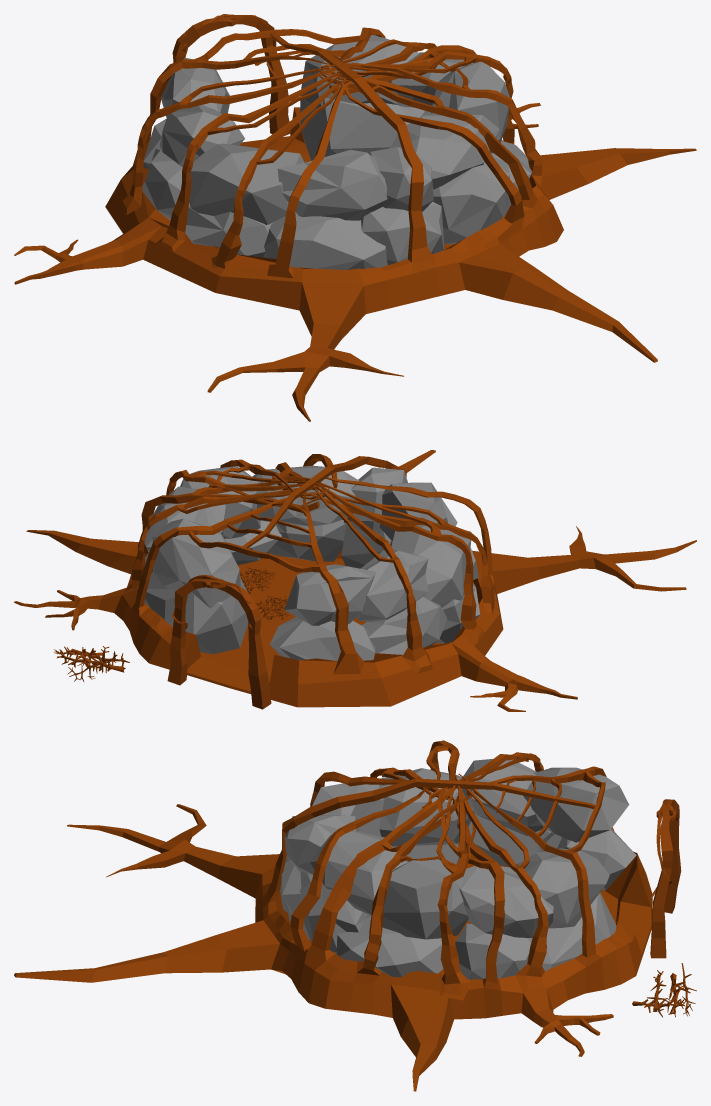
The model's file is weaversHutStage2.fbx.
3 views of the same model, one above another, from view 1: azimuth 30°, elevation 25°; view 2: azimuth 150°, elevation 25°; view 3: azimuth 270°, elevation 25° (orthographic). The views are drawn at different scales.
Parts seen in each view (by area): view 1: tree_bottom, rock.010, rock.011, rock.003, rock.001, rock.009, rock.013, tree_branch.008, tree_branch.003, rock.005, tree_branch.006, tree_branch.001 (+14 smaller); view 2: tree_bottom, rock.014, entrance.002, rock.009, rock.017, rock.010, tree_branch.001, rock.018, rock.008, tree_branch.003, tree_branch.008, rock.002 (+15 smaller); view 3: tree_bottom, rock.012, rock.017, rock.016, rock.014, rock.007, entrance.002, rock.013, tree_branch.002, tree_branch.007, tree_branch.001, rock.010 (+16 smaller).
Boxes of the visible parts, x1=… form: tree_bottom: x1=14, y1=32, x2=696, y2=421; rock.010: x1=189, y1=143, x2=304, y2=224; rock.011: x1=277, y1=150, x2=387, y2=220; rock.003: x1=263, y1=212, x2=387, y2=269; rock.001: x1=433, y1=157, x2=511, y2=244; rock.009: x1=300, y1=98, x2=424, y2=160; rock.013: x1=390, y1=113, x2=499, y2=189; tree_branch.008: x1=155, y1=68, x2=356, y2=251; tree_branch.003: x1=120, y1=65, x2=348, y2=214; rock.005: x1=361, y1=201, x2=444, y2=264; tree_branch.006: x1=211, y1=78, x2=346, y2=268; tree_branch.001: x1=267, y1=27, x2=385, y2=278; tree_bottom: x1=14, y1=450, x2=696, y2=711; rock.014: x1=152, y1=518, x2=240, y2=608; entrance.002: x1=167, y1=575, x2=271, y2=709; rock.009: x1=144, y1=571, x2=248, y2=654; rock.017: x1=284, y1=564, x2=375, y2=625; rock.010: x1=391, y1=524, x2=471, y2=607; tree_branch.001: x1=131, y1=477, x2=493, y2=615; rock.018: x1=356, y1=547, x2=428, y2=621; rock.008: x1=269, y1=617, x2=375, y2=660; tree_branch.003: x1=305, y1=481, x2=432, y2=673; tree_branch.008: x1=306, y1=478, x2=484, y2=642; rock.002: x1=361, y1=596, x2=447, y2=654; tree_bottom: x1=14, y1=773, x2=652, y2=1091; rock.012: x1=382, y1=859, x2=468, y2=939; rock.017: x1=523, y1=767, x2=629, y2=842; rock.016: x1=459, y1=866, x2=553, y2=938; rock.014: x1=517, y1=848, x2=609, y2=928; rock.007: x1=336, y1=915, x2=443, y2=977; entrance.002: x1=650, y1=799, x2=681, y2=958; rock.013: x1=310, y1=830, x2=407, y2=914; tree_branch.002: x1=455, y1=776, x2=548, y2=992; tree_branch.007: x1=436, y1=776, x2=470, y2=1000; tree_branch.001: x1=310, y1=771, x2=601, y2=966; rock.010: x1=378, y1=768, x2=474, y2=846.
Size of the model in its own units: 324 by 82.02 by 304.
